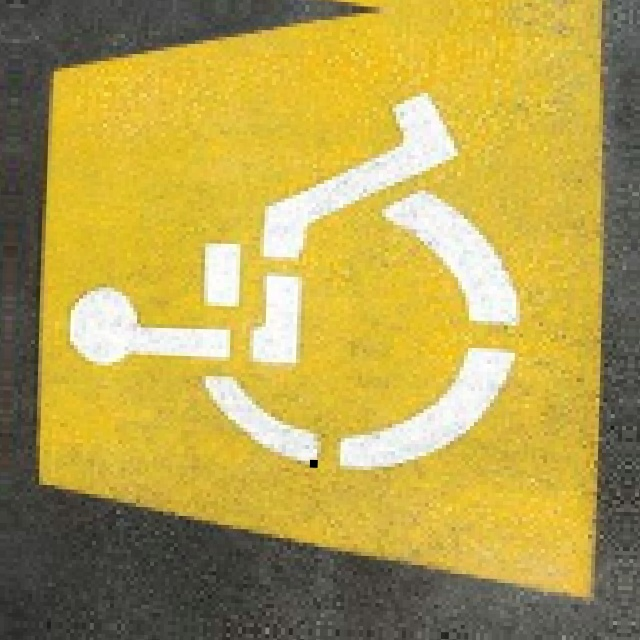ISA: (60, 81, 525, 476)
